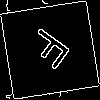F: (25, 25, 80, 77)
